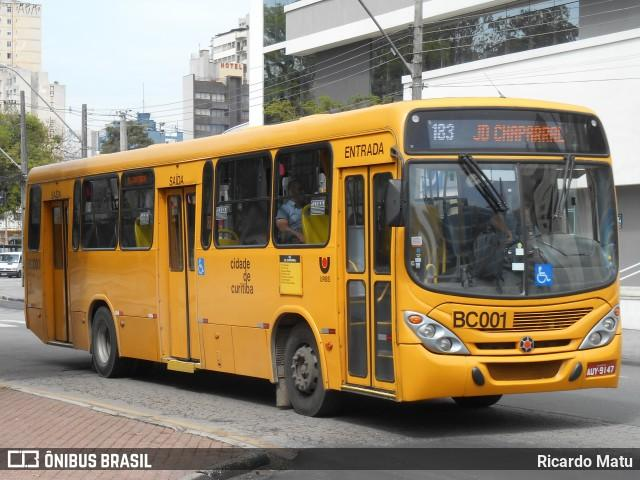JD CHAPARRAL: (467, 120, 569, 144)
